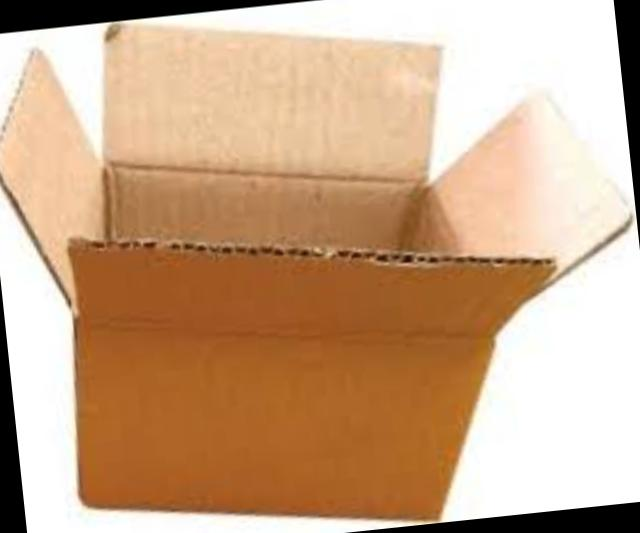cardboard paper: (0, 193, 407, 533), (66, 239, 547, 513), (142, 0, 631, 214), (438, 214, 640, 515), (0, 22, 99, 145)
